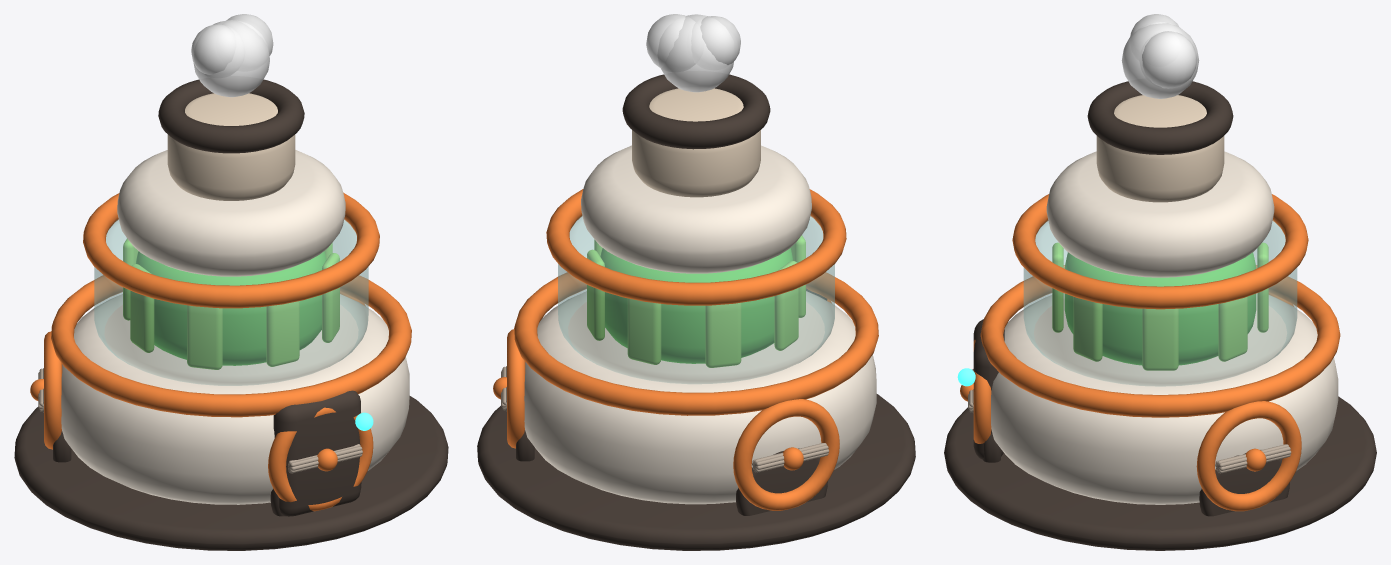
File: processor.glb
3 views of the same model, side by side, from view 1: azimuth 30°, elevation 25°; view 2: azimuth 150°, elevation 25°; view 3: azimuth 270°, elevation 25° (orthographic).
Visible parts, largest first — view 1: Cylinder.001, Cylinder.005, Cylinder, Cylinder.007, Torus.003, Torus.004, Cylinder.008, Cylinder.006, Cube.020, Torus.005, Sphere.003, Torus (+8 smaller); view 2: Cylinder.001, Cylinder.005, Cylinder, Cylinder.007, Torus.003, Torus.004, Cylinder.008, Cylinder.006, Torus.005, Torus.002, Sphere.003, Cube.015 (+8 smaller); view 3: Cylinder.001, Cylinder.005, Cylinder, Cylinder.007, Torus.003, Torus.004, Cylinder.008, Cylinder.006, Torus.005, Torus.001, Sphere.003, Sphere.004 (+9 smaller).
Boxes of the visible parts, left/top/right/bottom form: Cylinder.001: left=61, top=294, right=409, bottom=504; Cylinder.005: left=94, top=219, right=368, bottom=385; Cylinder: left=14, top=396, right=448, bottom=550; Cylinder.007: left=117, top=150, right=345, bottom=276; Torus.003: left=51, top=275, right=411, bottom=417; Torus.004: left=83, top=192, right=379, bottom=308; Cylinder.008: left=167, top=93, right=295, bottom=200; Cylinder.006: left=136, top=251, right=326, bottom=365; Cube.020: left=273, top=390, right=360, bottom=516; Torus.005: left=158, top=79, right=304, bottom=153; Sphere.003: left=193, top=20, right=269, bottom=97; Torus: left=268, top=407, right=373, bottom=511; Cylinder.001: left=524, top=291, right=876, bottom=504; Cylinder.005: left=558, top=215, right=834, bottom=383; Cylinder: left=477, top=394, right=915, bottom=550; Cylinder.007: left=581, top=145, right=811, bottom=273; Torus.003: left=514, top=272, right=878, bottom=415; Torus.004: left=546, top=189, right=846, bottom=305; Cylinder.008: left=632, top=88, right=760, bottom=197; Cylinder.006: left=600, top=248, right=793, bottom=363; Torus.005: left=622, top=74, right=770, bottom=149; Torus.002: left=733, top=399, right=839, bottom=510; Sphere.003: left=658, top=14, right=734, bottom=92; Cube.015: left=705, top=303, right=741, bottom=367; Cylinder.001: left=991, top=293, right=1338, bottom=504; Cylinder.005: left=1023, top=220, right=1297, bottom=386; Cylinder: left=944, top=396, right=1376, bottom=550; Cylinder.007: left=1046, top=151, right=1274, bottom=277; Torus.003: left=980, top=265, right=1340, bottom=417; Torus.004: left=1012, top=194, right=1308, bottom=309; Cylinder.008: left=1096, top=95, right=1224, bottom=202; Cylinder.006: left=1064, top=252, right=1256, bottom=365; Torus.005: left=1087, top=81, right=1233, bottom=154; Torus.001: left=1196, top=401, right=1301, bottom=511; Sphere.003: left=1121, top=22, right=1199, bottom=98; Sphere.004: left=1140, top=31, right=1197, bottom=88.
Size of the model in its own units: 1.9 by 2.18 by 1.9.
